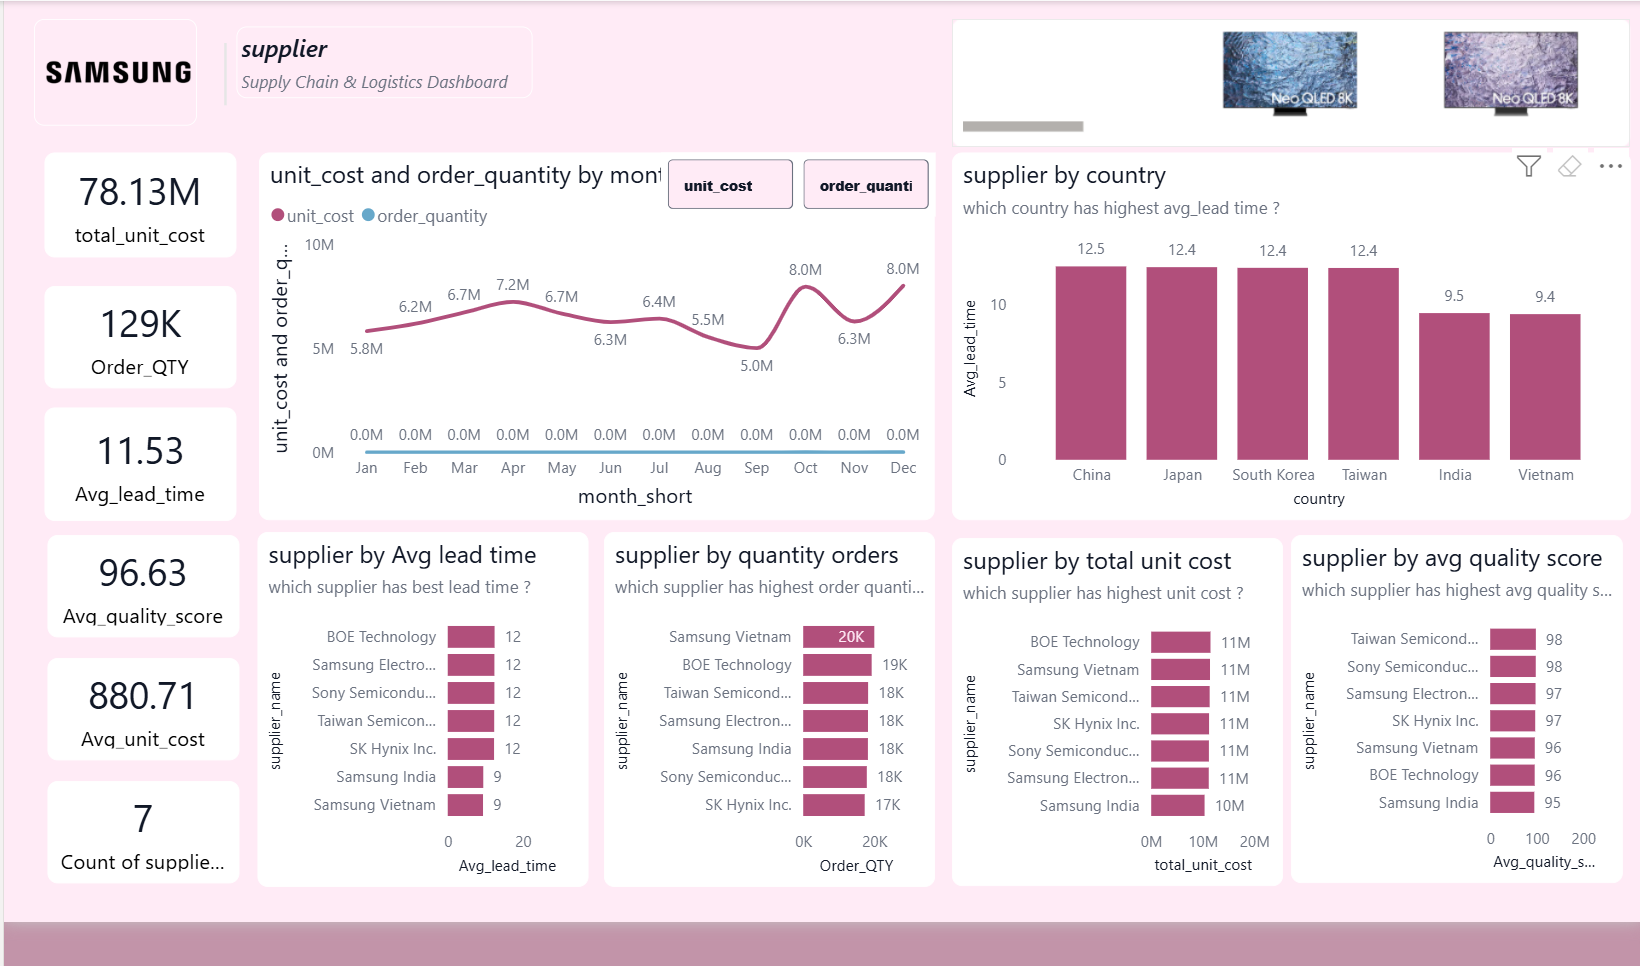

Layout of this report page (visuals, bound fields, positions):
{"tool":"powerbi","page":{"name":"supplier","canvas":[1280,720],"ordinal":2},"visuals":[{"type":"shape","title":"supplier","box":[182,19.4,231.1,55.8],"z":0},{"type":"shape","box":[151.1,32.7,43.7,48.7],"z":1000},{"type":"image","box":[23.7,14,127.3,83.6],"z":2000},{"type":"card","fields":{"Values":["MeasureTable.Order_QTY"]},"box":[31.2,222.2,149.8,79.9],"z":3000},{"type":"card","fields":{"Values":["MeasureTable.Avg_lead_time"]},"box":[31.2,317.1,149.8,88.6],"z":4000},{"type":"card","fields":{"Values":["fact_procurement.Avg_quality_score"]},"box":[33.7,417,149.8,79.9],"z":5000},{"type":"card","fields":{"Values":["fact_procurement.Avg_unit_cost"]},"box":[33.7,513.1,149.8,79.9],"z":6000},{"type":"card","fields":{"Values":["CountNonNull(dim_supplier.supplier_id)"]},"box":[33.7,609.2,149.8,79.9],"z":7000},{"type":"card","fields":{"Values":["fact_procurement.total_unit_cost"]},"box":[31.6,118.8,149.7,82.2],"z":8000},{"type":"shape","box":[199.2,297.9,259,85],"z":9000},{"type":"clusteredBarChart","title":"supplier by Avg lead time ","fields":{"Y":["MeasureTable.Avg_lead_time"],"Category":["dim_supplier.supplier_name"]},"box":[198.5,414.5,258.4,277.1],"z":10000},{"type":"clusteredBarChart","title":"supplier by quantity orders  ","fields":{"Y":["MeasureTable.Order_QTY"],"Category":["dim_supplier.supplier_name"]},"box":[469.4,414.5,258.4,277.1],"z":11000},{"type":"clusteredBarChart","title":"supplier by total unit cost ","fields":{"Y":["fact_procurement.total_unit_cost"],"Category":["dim_supplier.supplier_name"]},"box":[740.3,419.5,258.4,272.1],"z":12000},{"type":"clusteredColumnChart","title":"supplier by country ","fields":{"Category":["dim_supplier.country"],"Y":["MeasureTable.Avg_lead_time"]},"box":[740.3,118.6,530.6,287.1],"z":13000},{"type":"lineChart","title":"unit_cost and order_quantity by month","fields":{"Y":["fact_procurement.total_unit_cost","MeasureTable.Order_QTY"],"Category":["dim_date.month_short"]},"box":[199.7,118.6,528.1,287.1],"z":14000},{"type":"advancedSlicerVisual","fields":{"Values":["cost_qty_supplier.cost_qty_supplier"]},"box":[513.1,118.6,214.7,49.9],"z":15000},{"type":"clusteredBarChart","title":"supplier by  avg quality score","fields":{"Category":["dim_supplier.supplier_name"],"Y":["fact_procurement.Avg_quality_score"]},"box":[1006.2,417,259.7,272.1],"z":16000},{"type":"advancedSlicerVisual","fields":{"Values":["dim_product.product_name"]},"box":[740.3,14.1,530.3,99.9],"z":17000}]}

Visuals, with their boxes on the page's 1280x720 design canvas (x1, y1, x2, y2). These are canvas units, not pixel positions in the 1640x966 screenshot, which may show the page scaled, cropped or inside an application window:
"supplier" shape: detection(182, 19, 413, 75)
shape: detection(151, 33, 195, 81)
image: detection(24, 14, 151, 98)
card - MeasureTable.Order_QTY: detection(31, 222, 181, 302)
card - MeasureTable.Avg_lead_time: detection(31, 317, 181, 406)
card - fact_procurement.Avg_quality_score: detection(34, 417, 184, 497)
card - fact_procurement.Avg_unit_cost: detection(34, 513, 184, 593)
card - CountNonNull(dim_supplier.supplier_id): detection(34, 609, 184, 689)
card - fact_procurement.total_unit_cost: detection(32, 119, 181, 201)
shape: detection(199, 298, 458, 383)
"supplier by Avg lead time " clusteredBarChart: detection(198, 414, 457, 692)
"supplier by quantity orders  " clusteredBarChart: detection(469, 414, 728, 692)
"supplier by total unit cost " clusteredBarChart: detection(740, 420, 999, 692)
"supplier by country " clusteredColumnChart: detection(740, 119, 1271, 406)
"unit_cost and order_quantity by month" lineChart: detection(200, 119, 728, 406)
advancedSlicerVisual - cost_qty_supplier.cost_qty_supplier: detection(513, 119, 728, 168)
"supplier by  avg quality score" clusteredBarChart: detection(1006, 417, 1266, 689)
advancedSlicerVisual - dim_product.product_name: detection(740, 14, 1271, 114)
